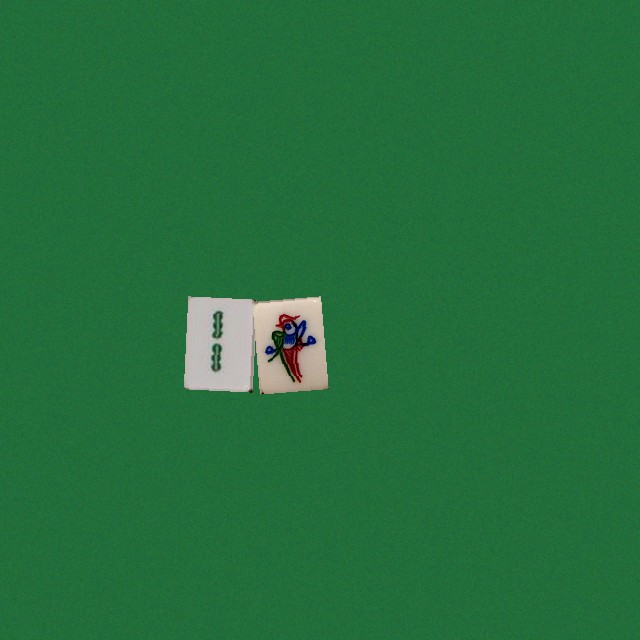tile: (183, 296, 252, 389), (252, 296, 321, 389)
